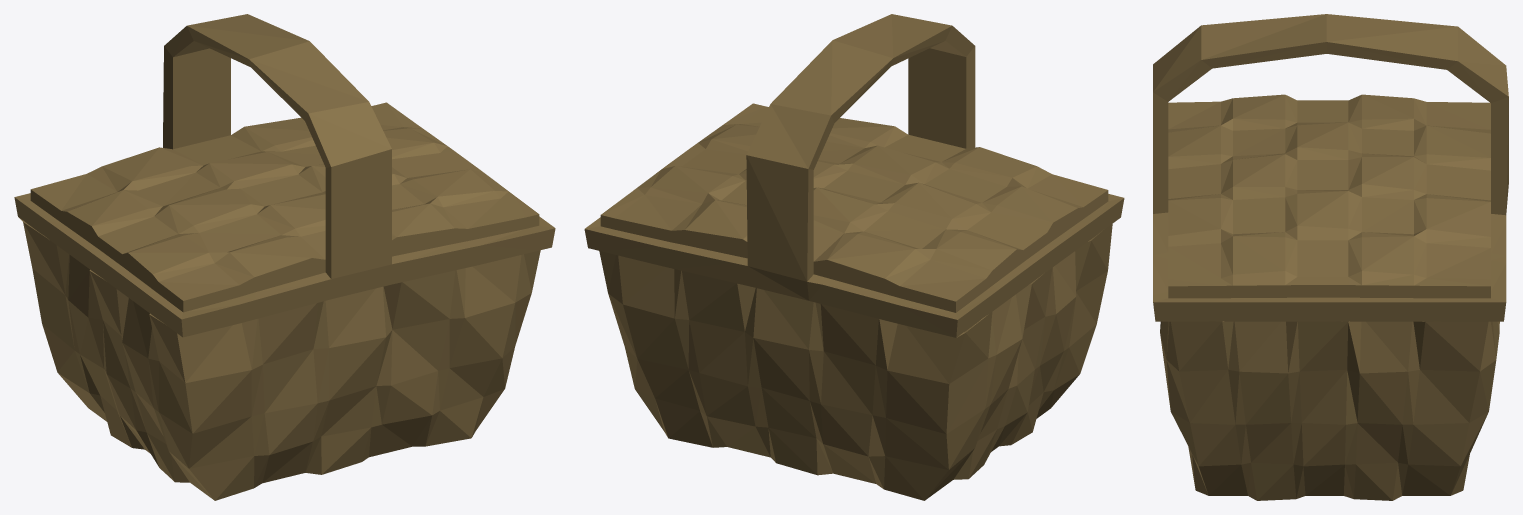
File: SM_picnic_basket_AN.fbx
3 renders of one model, left to right at view 1: azimuth 30°, elevation 25°; view 2: azimuth 150°, elevation 25°; view 3: azimuth 270°, elevation 25°, orthographic. The views are drawn at different scales.
Parts seen in each view (by area): view 1: SM_picnic_basket_AN; view 2: SM_picnic_basket_AN; view 3: SM_picnic_basket_AN.
Part boxes in pixels (x1,y1,x2,y2): SM_picnic_basket_AN: [14, 14, 555, 500]; SM_picnic_basket_AN: [584, 14, 1124, 500]; SM_picnic_basket_AN: [1153, 14, 1508, 500].
Bounding box in the file's own units: 15.62 × 15 × 12.18.
